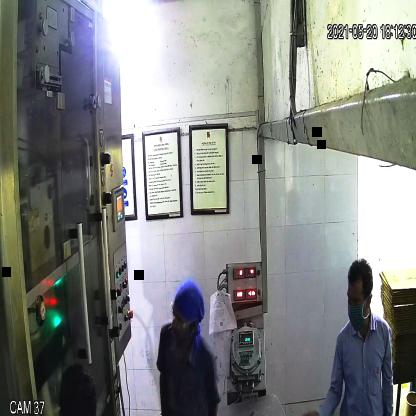goggles: (167, 300, 197, 331)
no_goggles: (344, 289, 371, 313)
